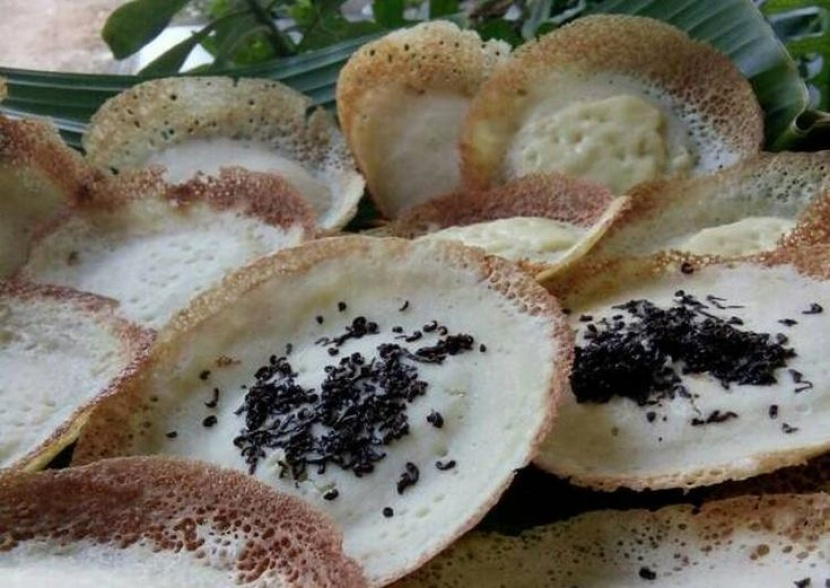srabi: (86, 232, 577, 580)
